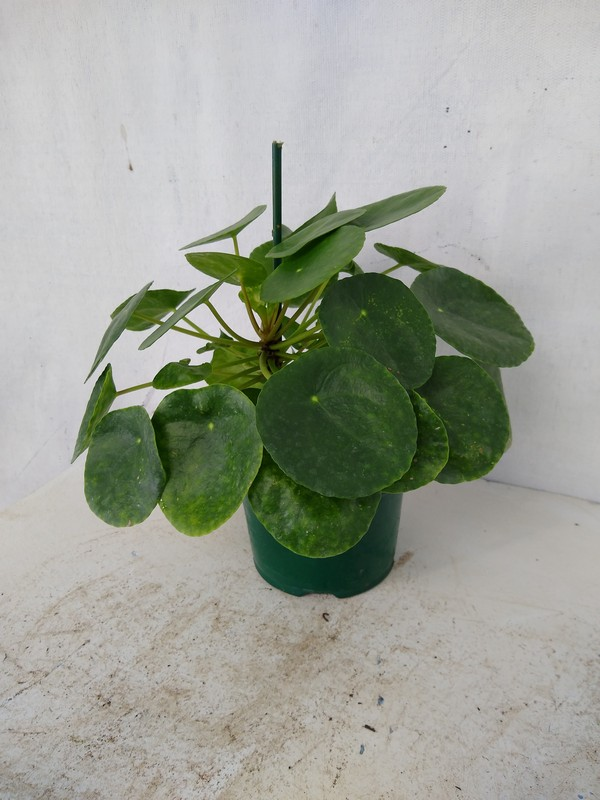plant: (67, 182, 539, 561)
pot: (239, 488, 409, 602)
